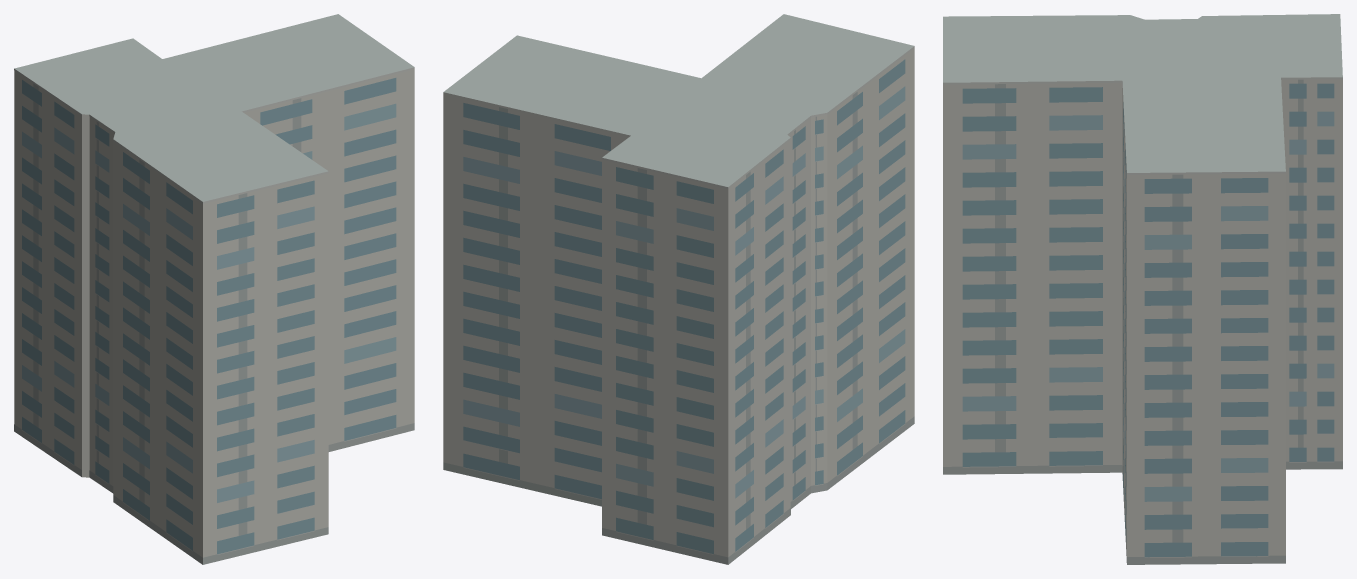
Rendered from residential-5dfb7e48-8a76-4ed0-bd69-a37c8407fe99.glb.
3 renders of one model, left to right at view 1: azimuth 30°, elevation 25°; view 2: azimuth 150°, elevation 25°; view 3: azimuth 270°, elevation 25°, orthographic. The views are drawn at different scales.
Visible parts, largest first — view 1: residential-5dfb7e48-8a76-4ed0-bd69-a37c8407fe99.tmp; view 2: residential-5dfb7e48-8a76-4ed0-bd69-a37c8407fe99.tmp; view 3: residential-5dfb7e48-8a76-4ed0-bd69-a37c8407fe99.tmp.
Boxes of the visible parts, box(x1,y1,x2,y2) form: residential-5dfb7e48-8a76-4ed0-bd69-a37c8407fe99.tmp: box(14, 14, 414, 564); residential-5dfb7e48-8a76-4ed0-bd69-a37c8407fe99.tmp: box(443, 14, 914, 564); residential-5dfb7e48-8a76-4ed0-bd69-a37c8407fe99.tmp: box(943, 14, 1342, 564).
Bounding box in the file's own units: 41.78 × 48 × 44.39.
